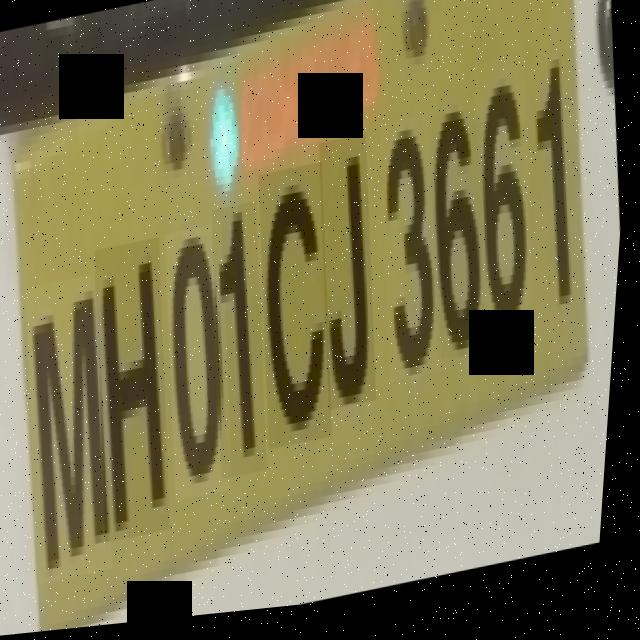0: (154, 225, 253, 508)
1: (201, 204, 288, 486), (518, 57, 601, 334)
3: (368, 120, 461, 394)
6: (461, 63, 555, 357), (418, 116, 507, 372)
C: (246, 166, 353, 458)
H: (82, 238, 193, 548)
J: (307, 139, 396, 420)
M: (14, 273, 137, 588)
